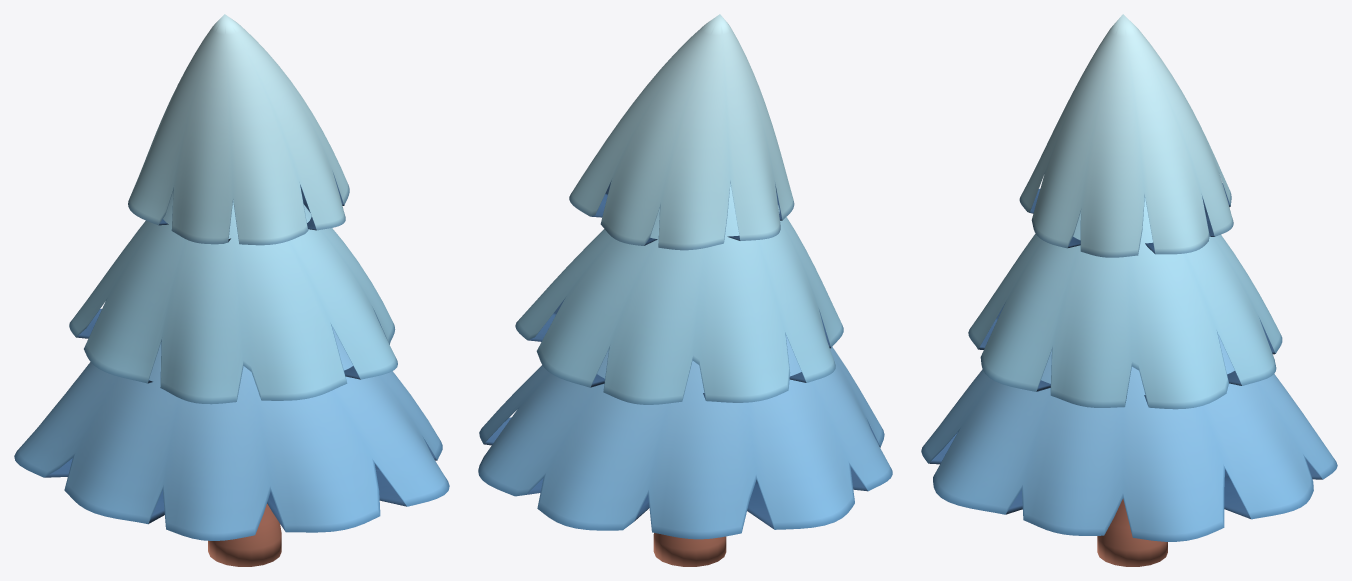
Rendered from pine_3.glb.
3 renders of one model, left to right at view 1: azimuth 30°, elevation 25°; view 2: azimuth 150°, elevation 25°; view 3: azimuth 270°, elevation 25°, orthographic. The views are drawn at different scales.
Visible parts, largest first — view 1: pine_3; view 2: pine_3; view 3: pine_3.
Boxes of the visible parts, box(x1,y1,x2,y2) form: pine_3: box(14, 14, 449, 566); pine_3: box(478, 14, 892, 566); pine_3: box(921, 14, 1337, 566).
Bounding box in the file's own units: 2.46 × 3.44 × 2.47.
Materials: 3 (3 with a texture image).
